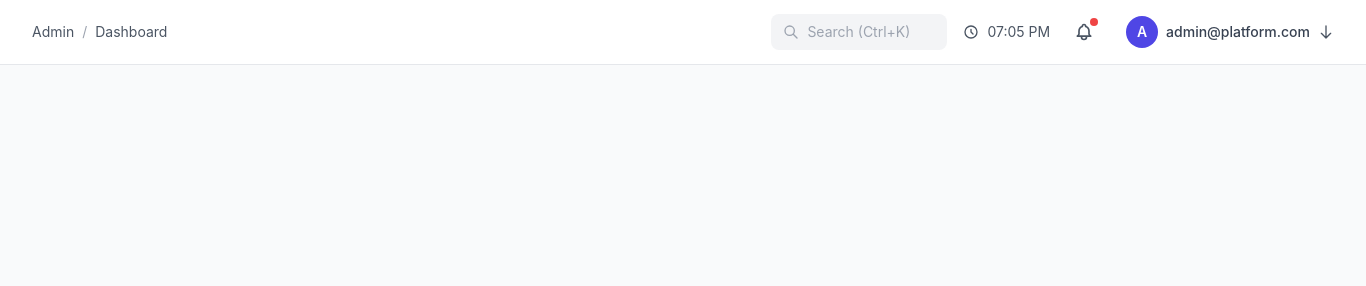
Test: TopBar › should close user menu when clicking outside
Click the button "A admin@platform.com". click: coordinates (1230, 32)
box: [1118, 8, 1342, 56]
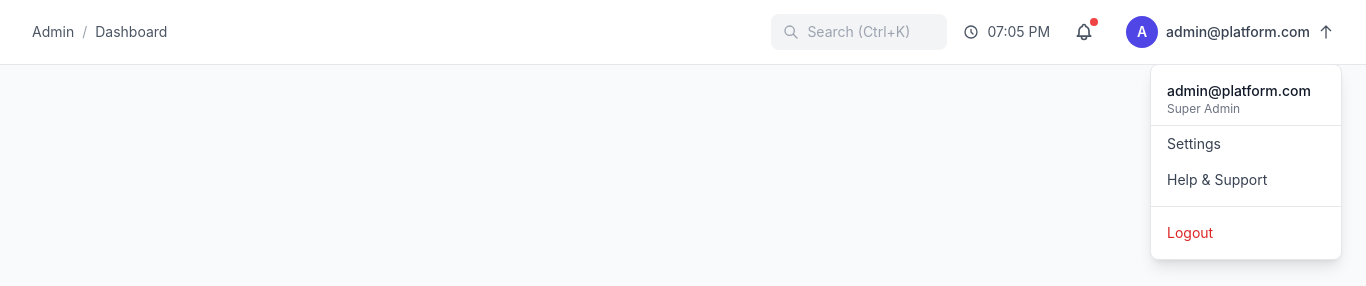
Result: the link "Settings" is shown at [1167, 135, 1221, 152]
// Click outside
Press the mouse on the element that starts with "Admin" at coordinates (683, 32), box [0, 0, 1365, 65]
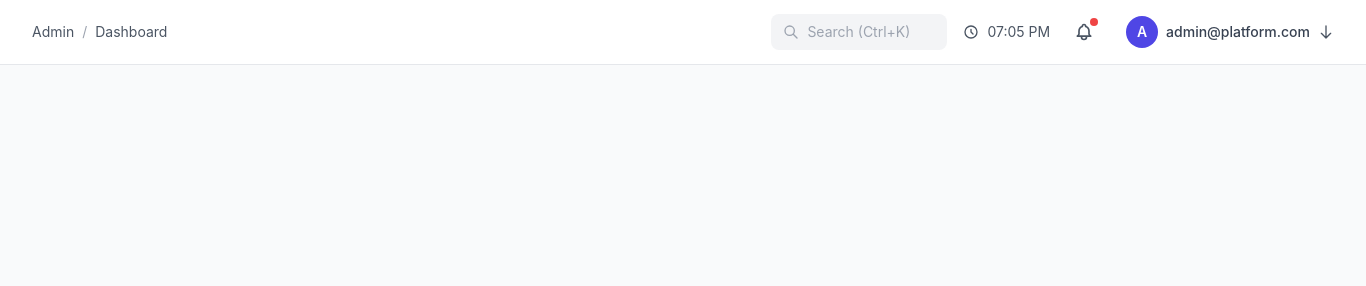
Result: the link "Settings" is gone
